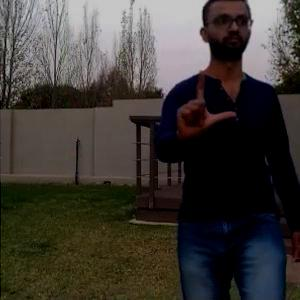land_hand: (170, 66, 238, 146)
